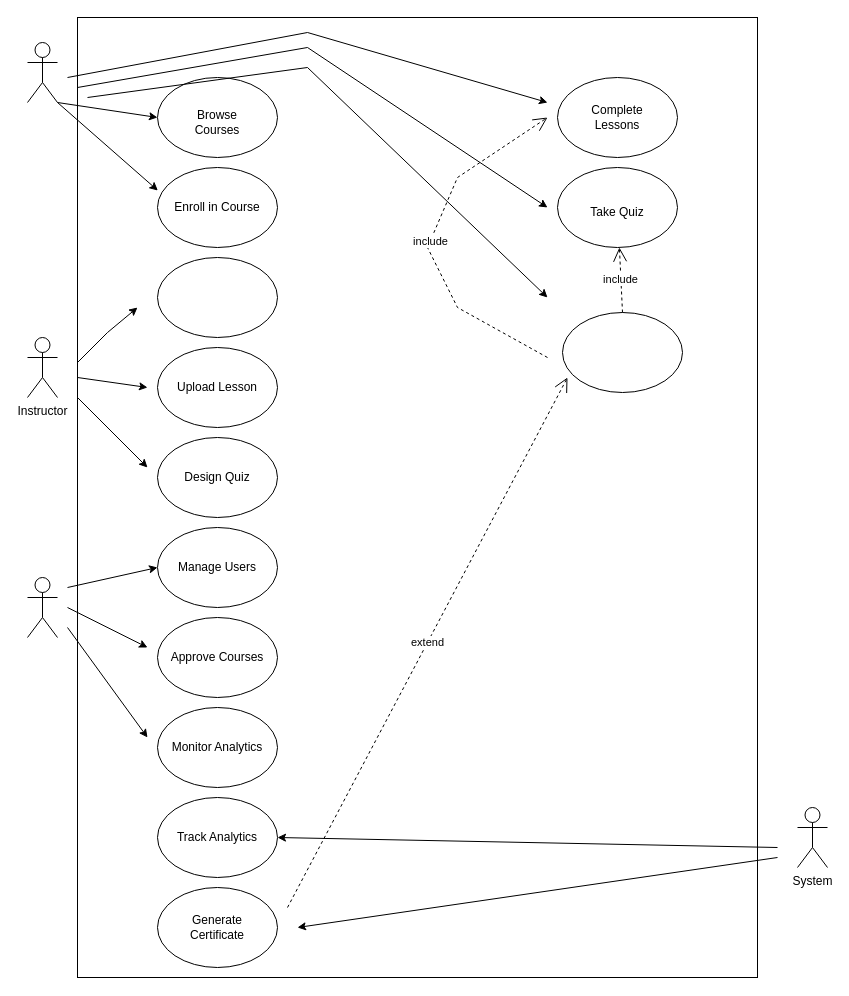
The diagram is 849 pixels wide and 996 high, and some of its shapes have lost their labels. Each missing label, with the centre of its shape:
Admin: (x=42, y=607)
Create Course: (x=217, y=297)
Earn Certificate: (x=622, y=352)
Student: (x=42, y=72)
